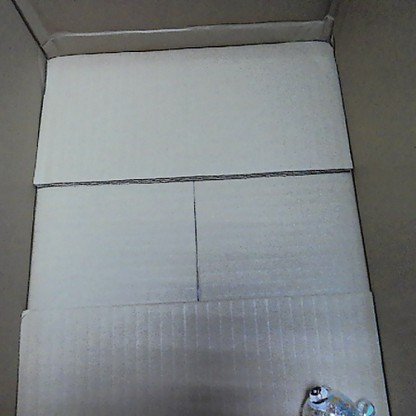whitefish: (286, 378, 377, 414)
